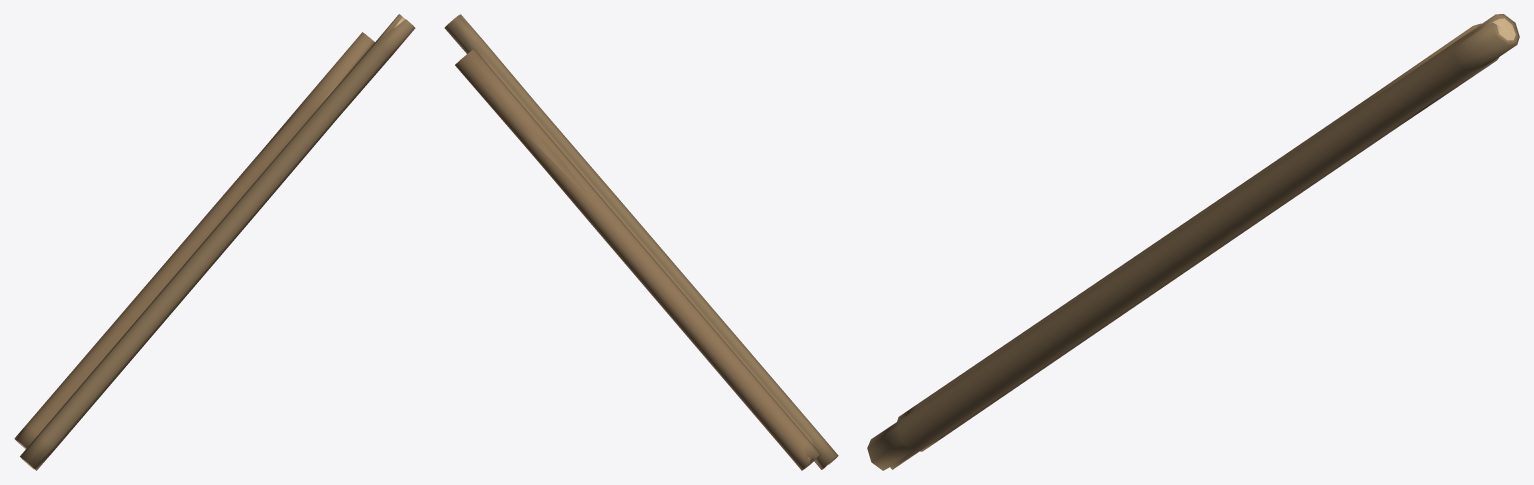
File: rpgpp_ag_roof_01_9x4x3_end_01b_half.fbx
The picture shows the model from 3 angles, left to right: view 1: azimuth 30°, elevation 25°; view 2: azimuth 150°, elevation 25°; view 3: azimuth 330°, elevation 25°; orthographic projection. The views are drawn at different scales.
Visible parts, largest first — view 1: rpgpp_ag_roof_01_9x4x3_end_01b_half; view 2: rpgpp_ag_roof_01_9x4x3_end_01b_half; view 3: rpgpp_ag_roof_01_9x4x3_end_01b_half.
Boxes of the visible parts, x1,y1,x2,y2 form: rpgpp_ag_roof_01_9x4x3_end_01b_half: (14, 14, 415, 470); rpgpp_ag_roof_01_9x4x3_end_01b_half: (444, 14, 838, 470); rpgpp_ag_roof_01_9x4x3_end_01b_half: (867, 14, 1519, 470).
Bounding box in the file's own units: 7.36 × 6.56 × 0.8005.
